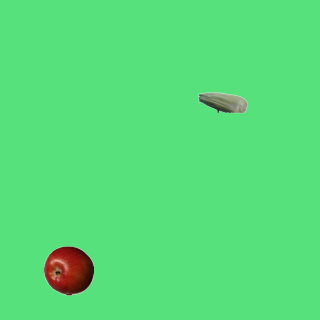Apple Braeburn: (43, 245, 93, 295)
Corn Husk: (197, 77, 247, 127)
